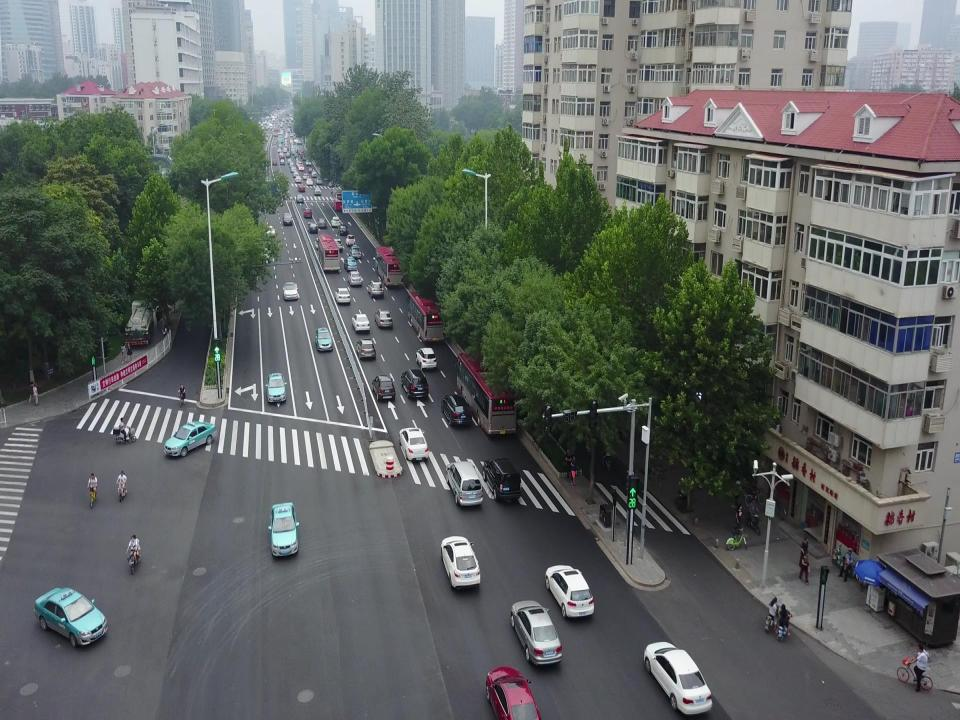bus: (457, 352, 517, 439), (407, 290, 445, 344), (376, 245, 404, 288), (332, 190, 344, 212), (278, 132, 284, 141), (274, 128, 278, 135)
car: (644, 637, 714, 716), (33, 580, 107, 647), (512, 599, 563, 667), (545, 562, 597, 620), (485, 668, 541, 720), (440, 532, 482, 592), (164, 420, 216, 456), (482, 456, 522, 502), (270, 499, 300, 558), (399, 426, 429, 463), (441, 393, 473, 427), (401, 368, 429, 401), (265, 373, 287, 402), (371, 374, 395, 400), (417, 346, 437, 371), (315, 326, 333, 352), (356, 337, 376, 358), (375, 308, 393, 329), (352, 313, 370, 333), (282, 281, 299, 301), (368, 280, 384, 299), (334, 286, 350, 304), (348, 271, 362, 285), (344, 256, 356, 271), (349, 245, 361, 259), (345, 233, 355, 247), (266, 225, 276, 238), (303, 206, 313, 219), (331, 216, 341, 228), (282, 213, 292, 225), (334, 238, 343, 251), (338, 224, 348, 235), (308, 222, 318, 233), (294, 140, 302, 152), (319, 218, 327, 229), (298, 184, 306, 192), (315, 176, 323, 184), (314, 188, 322, 195), (296, 195, 304, 202), (306, 179, 313, 185), (311, 171, 317, 178), (295, 176, 301, 183), (272, 159, 278, 166), (308, 166, 314, 173), (298, 164, 304, 171), (302, 154, 308, 161), (303, 173, 309, 179), (293, 172, 299, 178), (298, 162, 304, 168), (296, 157, 300, 165), (291, 167, 297, 172), (305, 160, 311, 165), (280, 159, 285, 165), (279, 154, 285, 159), (277, 147, 282, 153), (288, 158, 292, 164), (287, 150, 291, 156), (292, 149, 296, 155), (283, 147, 287, 153), (284, 144, 288, 150), (297, 161, 301, 166), (294, 153, 299, 157), (279, 152, 283, 157), (290, 162, 294, 167), (286, 153, 290, 158), (290, 147, 294, 152), (278, 143, 282, 148), (284, 140, 288, 145), (290, 142, 294, 146)
truck: (125, 298, 152, 344), (300, 151, 305, 157)
van: (446, 461, 482, 506), (277, 140, 281, 146)
